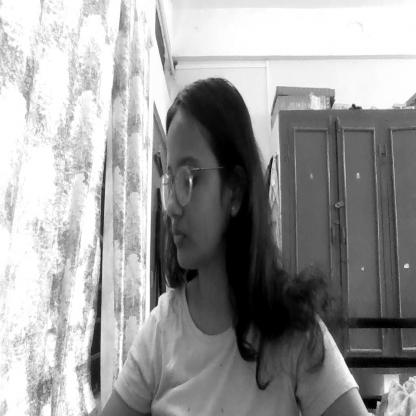Distracted: (162, 96, 242, 272)
